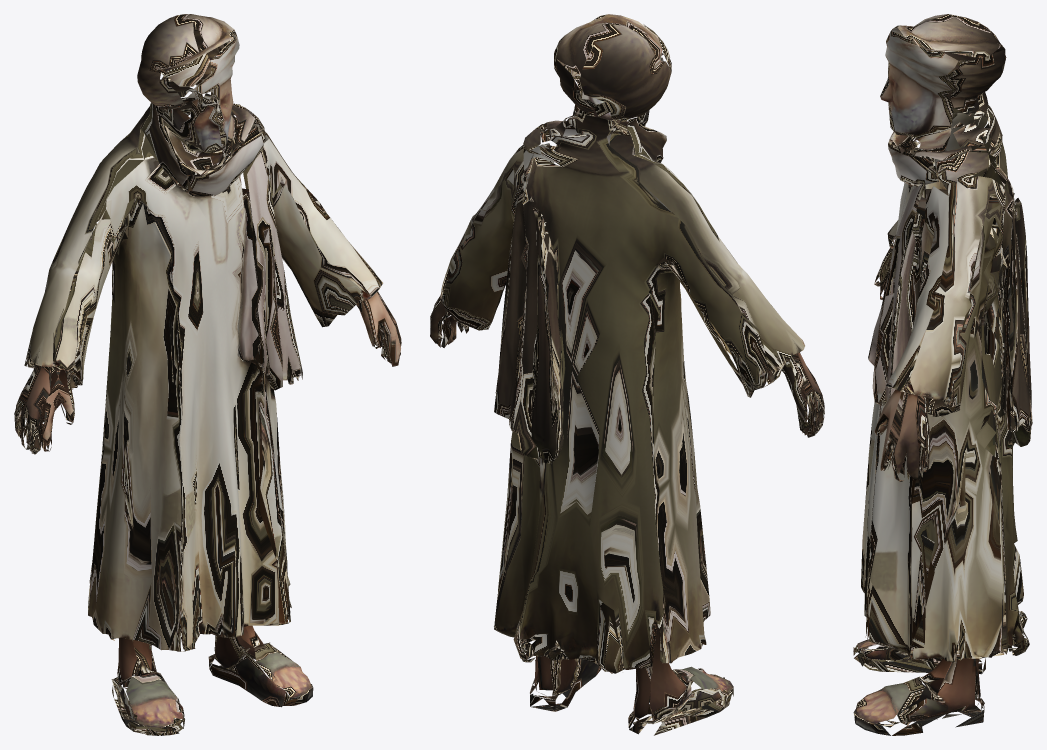
Rendered from homeless.glb.
3 views of the same model, side by side, from view 1: azimuth 30°, elevation 25°; view 2: azimuth 150°, elevation 25°; view 3: azimuth 270°, elevation 25° (orthographic).
Parts seen in each view (by area): view 1: world; view 2: world; view 3: world.
Boxes of the visible parts, box(x1,y1,x2,y2) form: world: box(14, 14, 401, 735); world: box(430, 14, 824, 735); world: box(853, 14, 1032, 735).
Size of the model in its own units: 0.5838 by 0.999 by 0.2407.
1 material, 1 textured.
